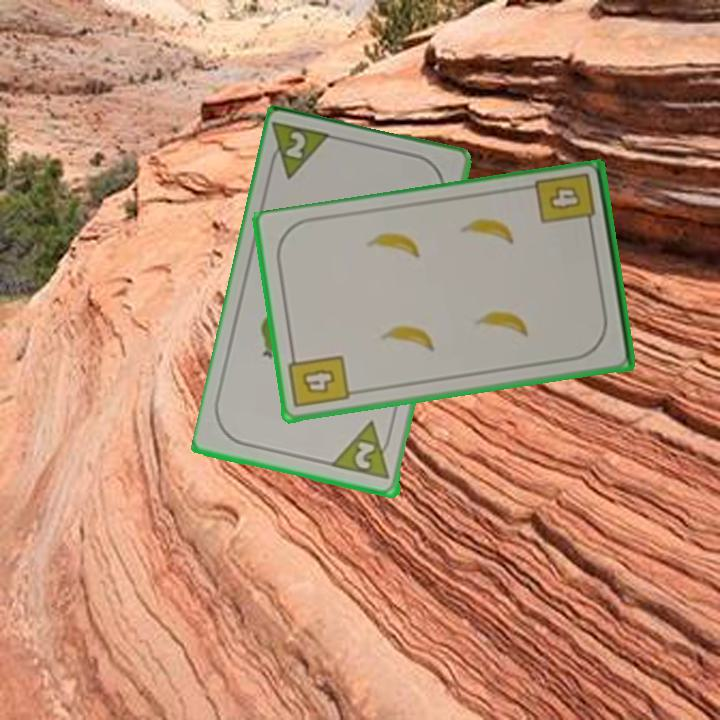2p: (264, 119, 337, 183), (331, 418, 397, 483)
4b: (532, 170, 599, 235), (285, 349, 352, 411)
